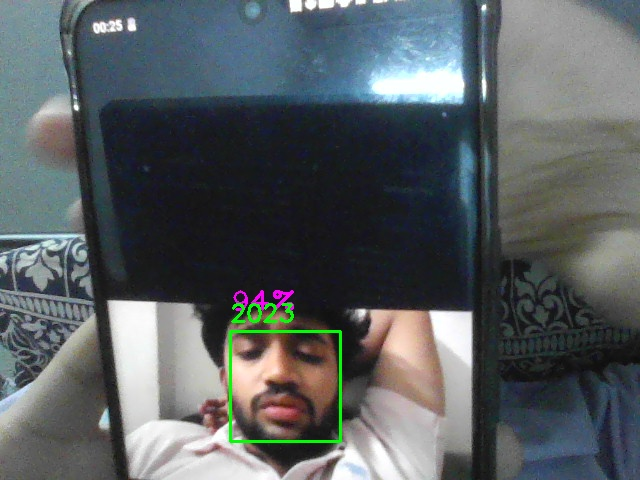fake: (230, 331, 341, 442)
